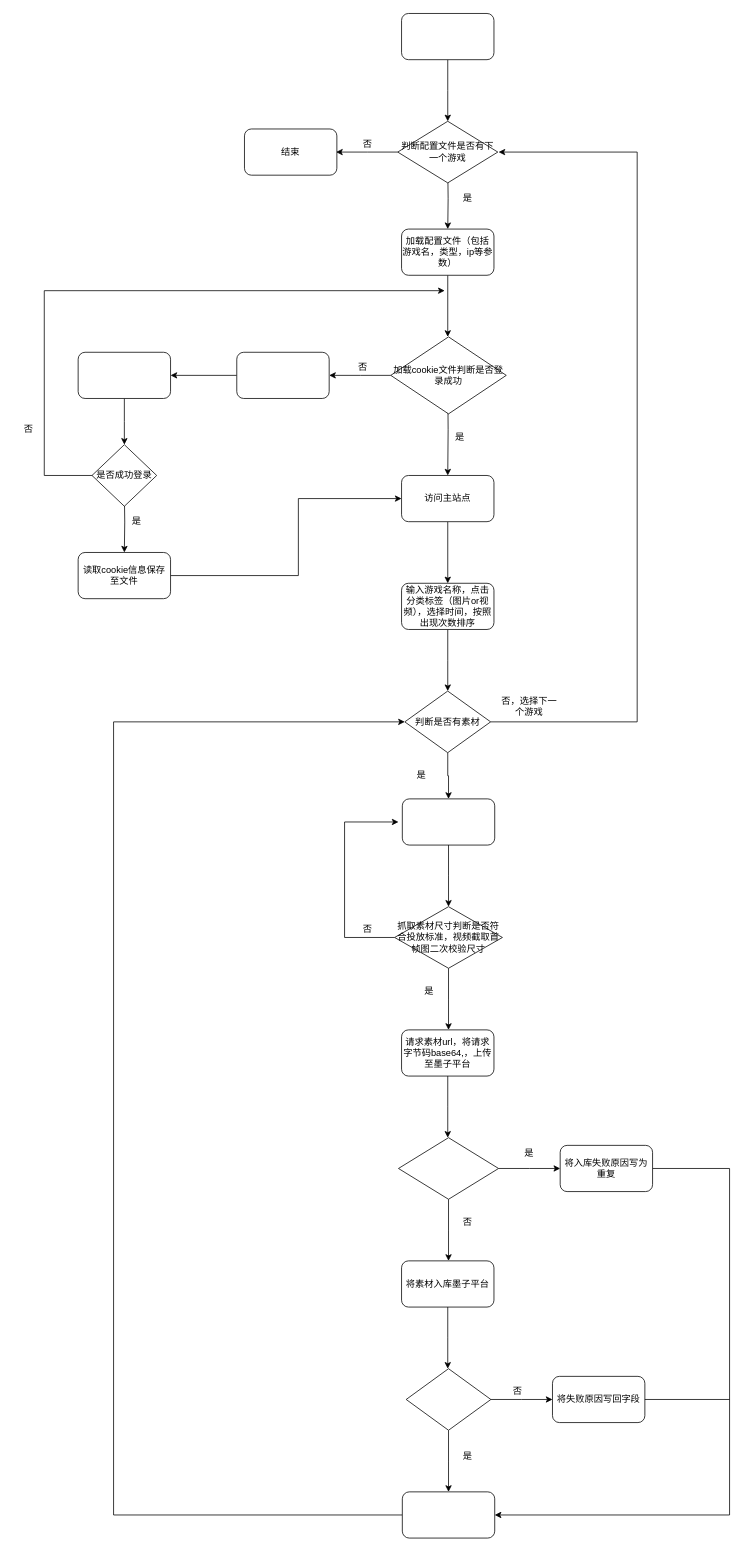
This 749x1552 diagram has some shape labels left out. Each missing label, with the centre of its shape:
"ocr识别验证码并输入点击登录" goes at point 124,375.
"入口函数mian" goes at point 447,36.
"将除素材以外全部附加信息写入DB" goes at point 448,1514.
"控制selenium输入账号密码" goes at point 282,375.
"是否入库成功" goes at point 448,1399.
"点击单个素材进入详情页" goes at point 448,821.
"获取墨子平台上传结果，根据MD5查询是否存在" goes at point 448,1168.
